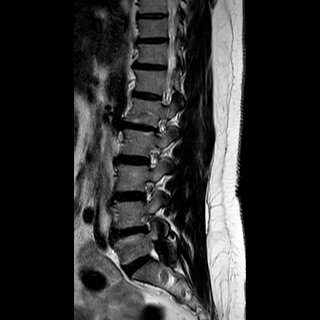RFS0: (136, 174, 158, 208), (136, 209, 159, 236)
